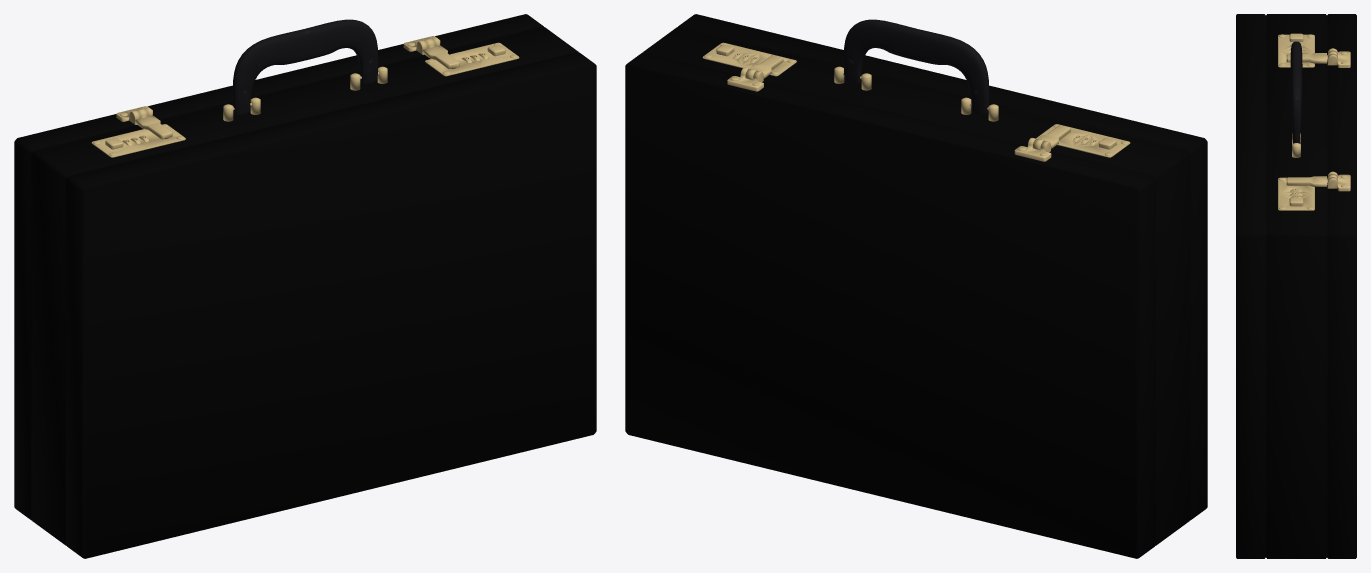
File: briefcase.glb
The picture shows the model from 3 angles, left to right: view 1: azimuth 30°, elevation 25°; view 2: azimuth 150°, elevation 25°; view 3: azimuth 270°, elevation 25°; orthographic projection. The views are drawn at different scales.
Parts seen in each view (by area): view 1: briefcase; view 2: briefcase; view 3: briefcase.
Part boxes in pixels (x1,y1,x2,y2): briefcase: [14, 14, 596, 558]; briefcase: [625, 14, 1207, 558]; briefcase: [1236, 14, 1356, 558].
Bounding box in the file's own units: 0.4597 × 0.3777 × 0.1062.
Materials: 2 (1 with a texture image).
